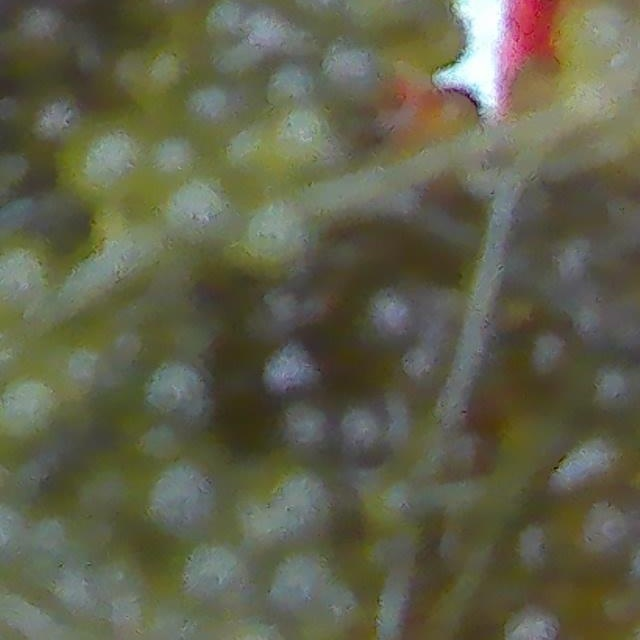SeaGrape: (233, 461, 332, 550), (54, 114, 147, 207), (262, 101, 338, 182), (178, 536, 251, 611), (266, 548, 338, 620), (0, 372, 64, 448)
